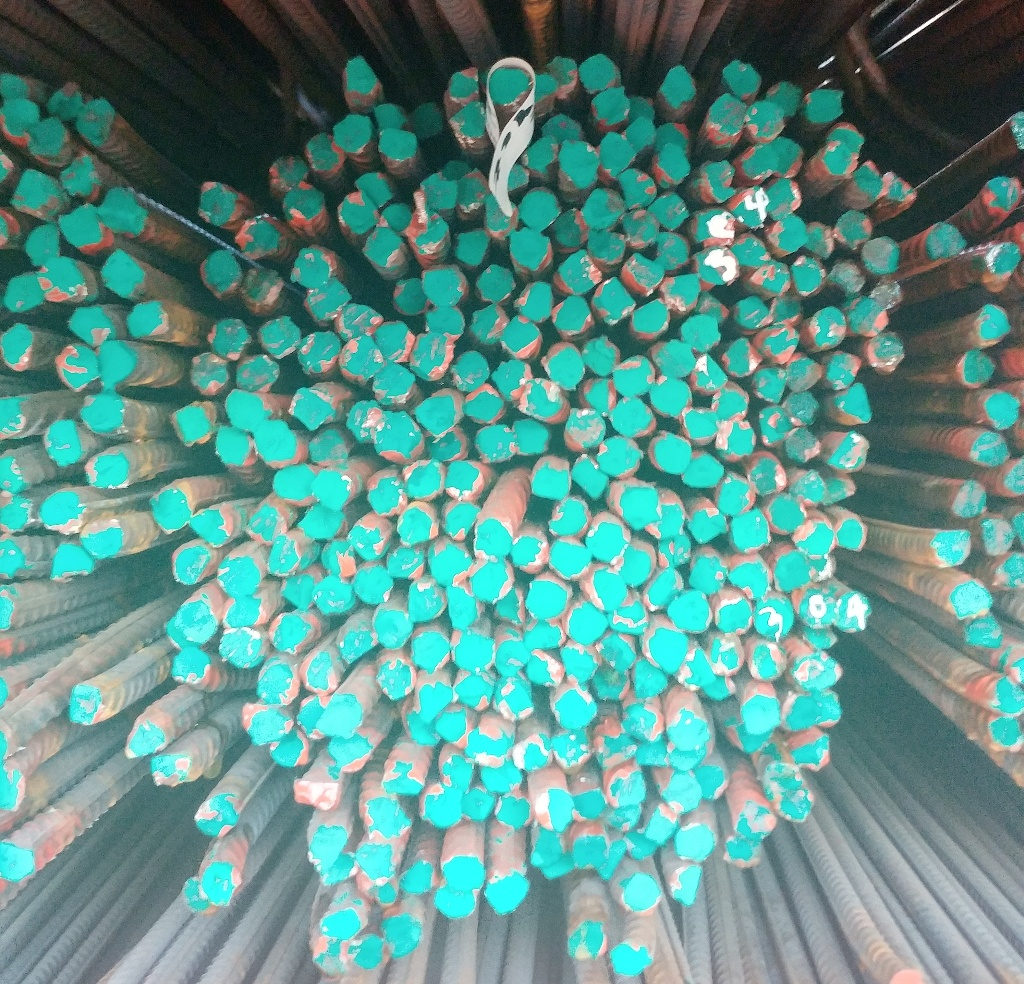dipstick: (78, 390, 138, 442), (610, 477, 667, 531), (34, 256, 98, 304), (97, 246, 151, 301), (537, 338, 591, 392), (11, 165, 67, 217), (53, 341, 105, 395), (287, 382, 342, 433), (413, 383, 463, 439), (26, 113, 78, 166), (160, 540, 217, 588), (790, 646, 848, 693), (96, 184, 149, 235), (211, 549, 263, 600), (447, 626, 502, 674), (593, 432, 645, 482), (21, 216, 68, 271), (522, 577, 578, 623), (191, 790, 247, 836), (149, 479, 194, 536), (93, 338, 142, 390), (372, 410, 425, 458), (252, 418, 306, 465), (82, 445, 138, 490), (362, 796, 419, 840), (339, 332, 389, 382), (643, 621, 691, 673), (339, 395, 393, 441), (222, 387, 277, 432), (562, 406, 611, 456), (58, 201, 109, 249), (489, 677, 542, 723), (297, 501, 352, 545), (169, 399, 218, 448), (211, 422, 259, 472), (550, 683, 601, 730), (194, 854, 239, 907), (607, 396, 661, 440), (65, 675, 109, 729), (596, 720, 645, 768), (372, 652, 421, 700), (311, 464, 360, 512), (535, 784, 582, 834), (255, 314, 305, 361), (244, 498, 294, 545), (41, 418, 88, 468), (64, 304, 124, 343), (711, 473, 764, 517), (216, 626, 269, 670), (309, 575, 363, 618), (243, 702, 301, 742), (546, 535, 594, 583), (525, 453, 574, 500), (664, 705, 713, 752), (585, 561, 632, 610), (380, 912, 427, 961), (264, 609, 315, 654), (77, 515, 128, 560), (558, 137, 601, 190), (483, 870, 531, 917), (121, 713, 169, 760), (204, 317, 253, 363), (3, 266, 49, 315), (305, 930, 355, 975), (551, 249, 602, 293), (515, 376, 567, 419), (617, 539, 658, 593), (648, 427, 695, 474), (831, 588, 878, 635), (489, 357, 537, 403), (641, 567, 687, 615), (297, 329, 343, 377), (41, 487, 87, 535), (664, 589, 713, 634), (410, 330, 455, 379), (692, 244, 742, 288), (861, 333, 912, 376), (46, 541, 97, 584), (72, 95, 115, 146), (259, 657, 306, 703), (425, 535, 471, 582), (306, 421, 353, 467), (678, 452, 732, 492), (401, 457, 449, 502), (373, 602, 417, 651), (2, 836, 44, 887), (463, 722, 516, 762), (303, 820, 350, 865), (419, 781, 466, 826), (470, 557, 515, 604), (349, 561, 396, 606), (422, 261, 470, 305), (520, 183, 564, 231), (590, 276, 634, 324), (695, 155, 738, 204), (617, 869, 666, 912), (544, 496, 593, 539), (61, 149, 104, 198), (562, 601, 612, 643), (217, 592, 272, 630), (268, 464, 323, 502), (324, 693, 369, 739), (337, 617, 382, 663), (547, 294, 594, 338), (708, 592, 755, 636), (740, 688, 783, 736), (724, 711, 773, 753), (234, 352, 283, 394), (302, 646, 343, 696), (288, 244, 333, 289), (175, 872, 220, 917), (579, 335, 625, 379), (472, 422, 518, 466), (753, 596, 797, 642), (623, 697, 667, 743), (188, 351, 234, 395), (341, 54, 384, 101), (826, 429, 873, 472), (316, 532, 359, 579), (124, 296, 171, 339), (195, 181, 243, 223), (662, 767, 704, 815), (608, 938, 657, 979), (200, 248, 240, 298), (1, 319, 38, 373), (583, 187, 628, 231), (947, 477, 992, 521), (674, 646, 719, 690), (381, 751, 425, 796), (235, 216, 281, 259), (830, 383, 876, 426), (746, 454, 789, 500), (769, 545, 812, 591), (577, 53, 624, 95), (928, 527, 975, 569), (407, 576, 449, 623), (946, 579, 994, 620), (192, 501, 233, 549), (550, 730, 594, 774), (452, 668, 496, 712), (645, 498, 688, 543), (685, 551, 728, 596), (444, 853, 490, 895), (281, 182, 328, 223), (596, 131, 637, 178), (605, 764, 652, 805), (400, 707, 447, 748), (385, 542, 433, 582), (329, 111, 372, 155), (924, 218, 967, 262), (510, 415, 554, 458), (789, 731, 833, 774), (339, 190, 381, 235), (742, 100, 787, 142), (434, 882, 481, 922), (366, 467, 406, 514), (692, 208, 740, 247), (293, 769, 341, 808), (336, 301, 385, 339), (648, 340, 697, 378), (761, 495, 810, 533), (362, 225, 405, 268), (719, 56, 762, 99), (807, 304, 850, 347), (687, 504, 731, 546), (446, 458, 490, 500), (569, 453, 610, 498), (268, 727, 313, 768), (462, 385, 508, 425), (967, 427, 1013, 467), (396, 502, 442, 542), (631, 655, 670, 702), (152, 751, 199, 790), (510, 735, 558, 773), (476, 760, 525, 797), (659, 271, 701, 314), (755, 405, 797, 448), (596, 630, 638, 673), (300, 133, 344, 174), (445, 102, 489, 143), (305, 278, 349, 319), (244, 268, 285, 312), (499, 315, 540, 359), (847, 296, 891, 337), (527, 824, 571, 865), (411, 629, 452, 673), (265, 533, 309, 574), (352, 167, 397, 207), (726, 559, 772, 598), (326, 734, 372, 773), (705, 93, 743, 140), (492, 628, 530, 675), (424, 429, 471, 467), (306, 855, 360, 888), (642, 801, 683, 844), (175, 596, 216, 639), (587, 85, 631, 125), (612, 353, 652, 397), (587, 516, 627, 560), (658, 64, 697, 109), (981, 174, 1020, 219), (708, 634, 747, 679), (790, 519, 836, 557), (357, 843, 403, 881), (433, 709, 480, 746), (267, 152, 309, 193), (509, 228, 551, 269), (621, 251, 663, 292), (730, 185, 771, 227), (834, 207, 876, 248), (863, 235, 905, 276), (715, 418, 756, 460), (496, 789, 537, 831), (470, 303, 510, 346), (785, 691, 825, 734), (676, 821, 719, 861), (678, 313, 722, 352), (802, 86, 847, 124), (345, 518, 390, 556), (371, 319, 412, 360), (722, 337, 764, 377), (565, 920, 607, 960), (791, 254, 830, 297), (648, 377, 691, 416), (171, 645, 215, 683), (619, 828, 668, 862), (667, 864, 704, 909), (278, 567, 324, 603), (747, 640, 787, 681), (512, 530, 553, 570), (514, 281, 553, 323), (651, 143, 690, 185), (756, 325, 799, 363), (787, 467, 825, 510), (297, 694, 331, 742), (771, 135, 807, 180), (653, 533, 699, 568), (372, 364, 418, 399), (420, 172, 460, 212), (649, 191, 689, 231), (526, 648, 566, 688), (397, 855, 437, 895), (43, 79, 83, 119), (733, 232, 774, 271), (798, 589, 837, 630), (454, 168, 488, 215), (767, 218, 809, 256), (830, 256, 868, 298), (576, 375, 618, 413), (478, 265, 521, 302), (554, 207, 591, 250), (449, 349, 492, 386), (979, 515, 1016, 558), (563, 642, 600, 685), (2, 96, 39, 139), (728, 295, 776, 328), (319, 905, 367, 938), (476, 515, 512, 559), (618, 169, 658, 208), (618, 207, 658, 246), (1, 394, 31, 446), (736, 797, 774, 838), (690, 354, 727, 396), (821, 471, 863, 508), (422, 306, 469, 339), (815, 141, 858, 177), (852, 158, 888, 201), (830, 515, 869, 554), (569, 831, 609, 869), (487, 67, 533, 100), (411, 212, 447, 254), (726, 835, 768, 871), (766, 179, 805, 217), (713, 380, 751, 419), (691, 763, 729, 802), (592, 666, 631, 704), (739, 144, 779, 181), (444, 584, 481, 624), (442, 65, 483, 101), (980, 240, 1021, 276), (822, 350, 863, 386), (681, 404, 722, 440), (463, 783, 499, 824), (378, 128, 421, 162), (965, 615, 1008, 649), (522, 618, 565, 652), (453, 229, 491, 267), (587, 231, 626, 268), (632, 297, 669, 336), (976, 304, 1013, 343), (785, 355, 824, 392), (350, 934, 389, 971), (436, 749, 475, 786), (608, 601, 653, 633), (957, 348, 998, 383), (160, 615, 202, 649), (883, 168, 916, 211), (765, 80, 803, 117), (824, 121, 865, 155), (764, 761, 805, 795), (414, 678, 455, 712), (392, 278, 429, 315), (443, 499, 480, 536), (768, 292, 806, 328), (870, 277, 909, 312), (656, 230, 689, 271), (980, 717, 1022, 749), (537, 851, 579, 883), (486, 199, 517, 242), (752, 260, 791, 294), (598, 840, 632, 879), (2, 495, 35, 535), (525, 136, 556, 178), (408, 100, 444, 136), (624, 118, 660, 154), (787, 426, 821, 464), (776, 790, 814, 824), (813, 687, 844, 728), (539, 113, 586, 140), (698, 289, 734, 324), (980, 392, 1017, 426), (571, 788, 612, 818), (783, 393, 821, 425), (636, 737, 674, 769), (990, 678, 1024, 713), (805, 551, 841, 584), (545, 55, 576, 93), (805, 222, 834, 261), (381, 202, 417, 233), (653, 123, 691, 152), (1, 71, 34, 104), (993, 552, 1024, 587), (603, 805, 646, 830), (755, 367, 785, 402), (703, 674, 738, 704), (374, 101, 410, 130), (625, 94, 660, 121), (532, 69, 555, 106), (439, 154, 473, 179), (1003, 456, 1024, 486)
